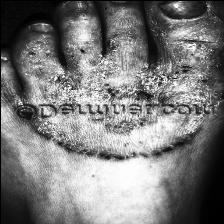Toxin: (132, 76, 176, 98), (158, 130, 196, 152)
